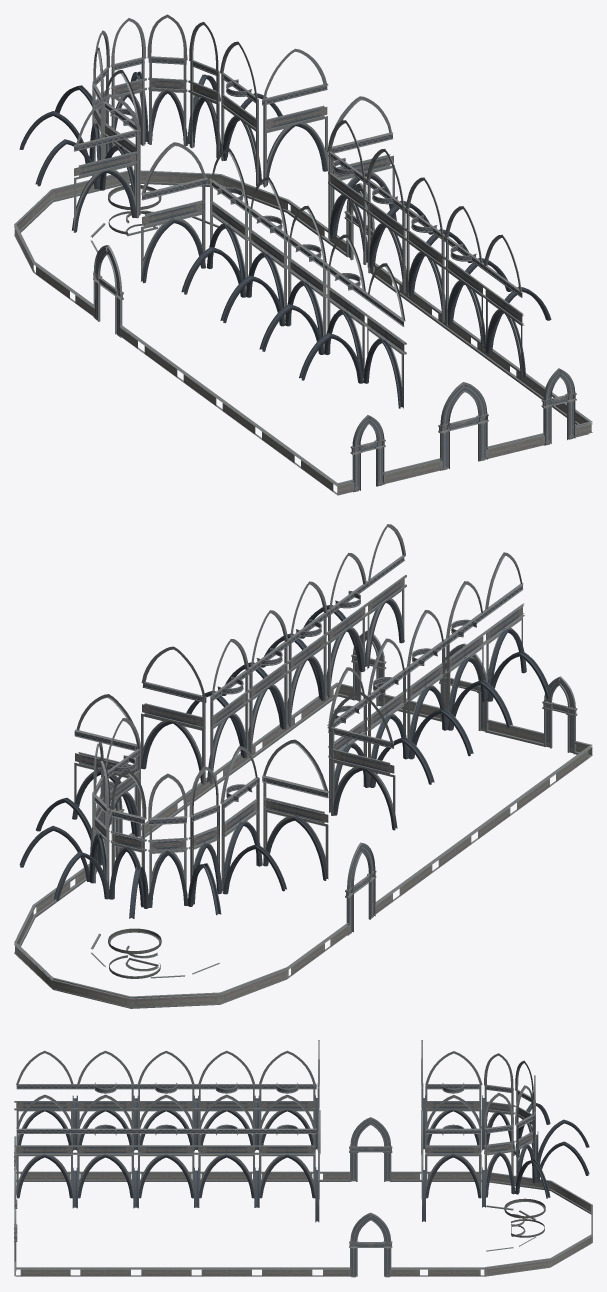
File: Indoor_MdBuild_Church01_1231_0.fbx
The picture shows the model from 3 angles, top to bottom: view 1: azimuth 30°, elevation 25°; view 2: azimuth 150°, elevation 25°; view 3: azimuth 270°, elevation 25°; orthographic projection. The views are drawn at different scales.
Visible parts, largest first — view 1: Indoor_MdBuild_Church01_1231_0; view 2: Indoor_MdBuild_Church01_1231_0; view 3: Indoor_MdBuild_Church01_1231_0.
Part boxes in pixels (x1=…): Indoor_MdBuild_Church01_1231_0: x1=14, y1=14, x2=592, y2=495; Indoor_MdBuild_Church01_1231_0: x1=14, y1=524, x2=592, y2=1008; Indoor_MdBuild_Church01_1231_0: x1=14, y1=1040, x2=592, y2=1277.
Bounding box in the file's own units: 30.21 × 23.08 × 76.45.
